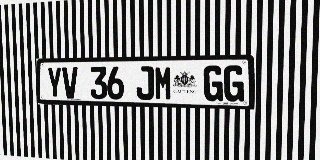3: (90, 67, 107, 99)
6: (107, 66, 124, 99)
G: (224, 65, 244, 102), (203, 65, 223, 101)
J: (136, 66, 154, 100)
M: (154, 66, 172, 100)
V: (62, 67, 78, 99)
Y: (47, 67, 62, 98)
